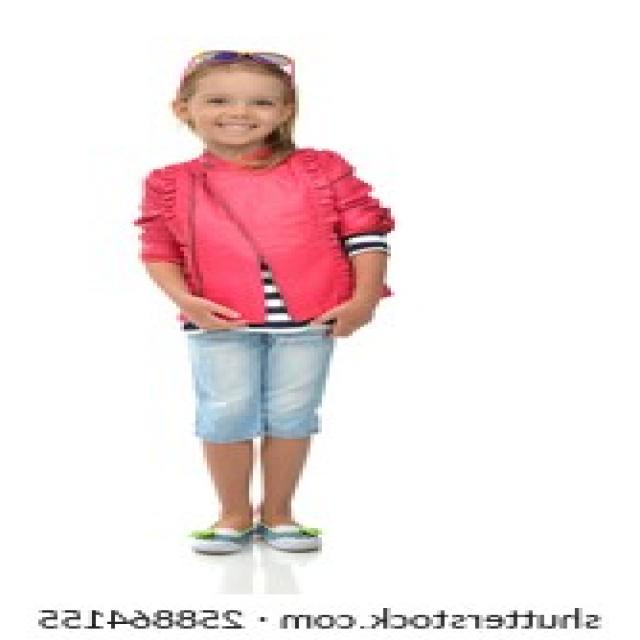child: (69, 32, 429, 574)
